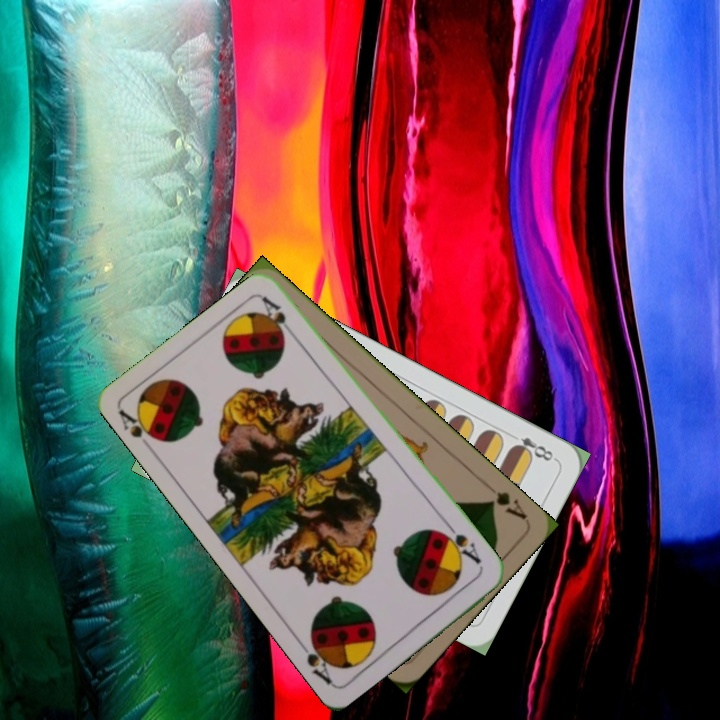E8: (507, 432, 559, 464)
GA: (483, 487, 530, 523)
SA: (115, 402, 166, 455), (436, 520, 484, 567)
